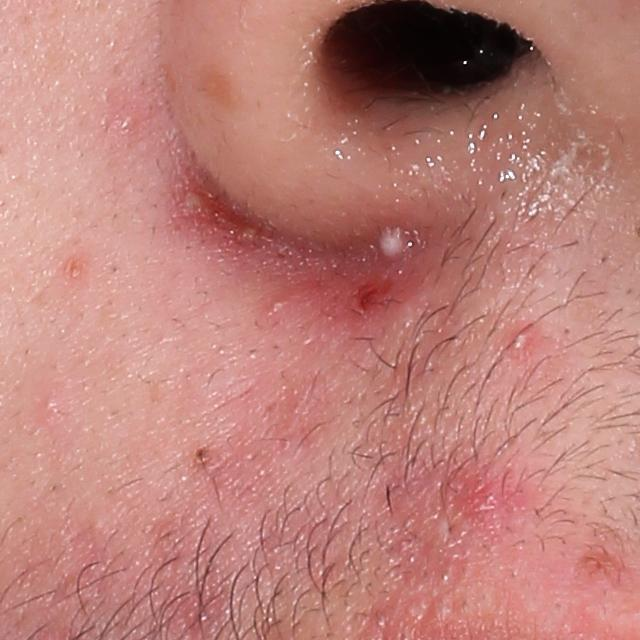papule: (457, 468, 517, 518), (65, 258, 84, 284)
pustule: (372, 222, 414, 264), (504, 324, 532, 355), (180, 184, 205, 212), (240, 221, 260, 244)
